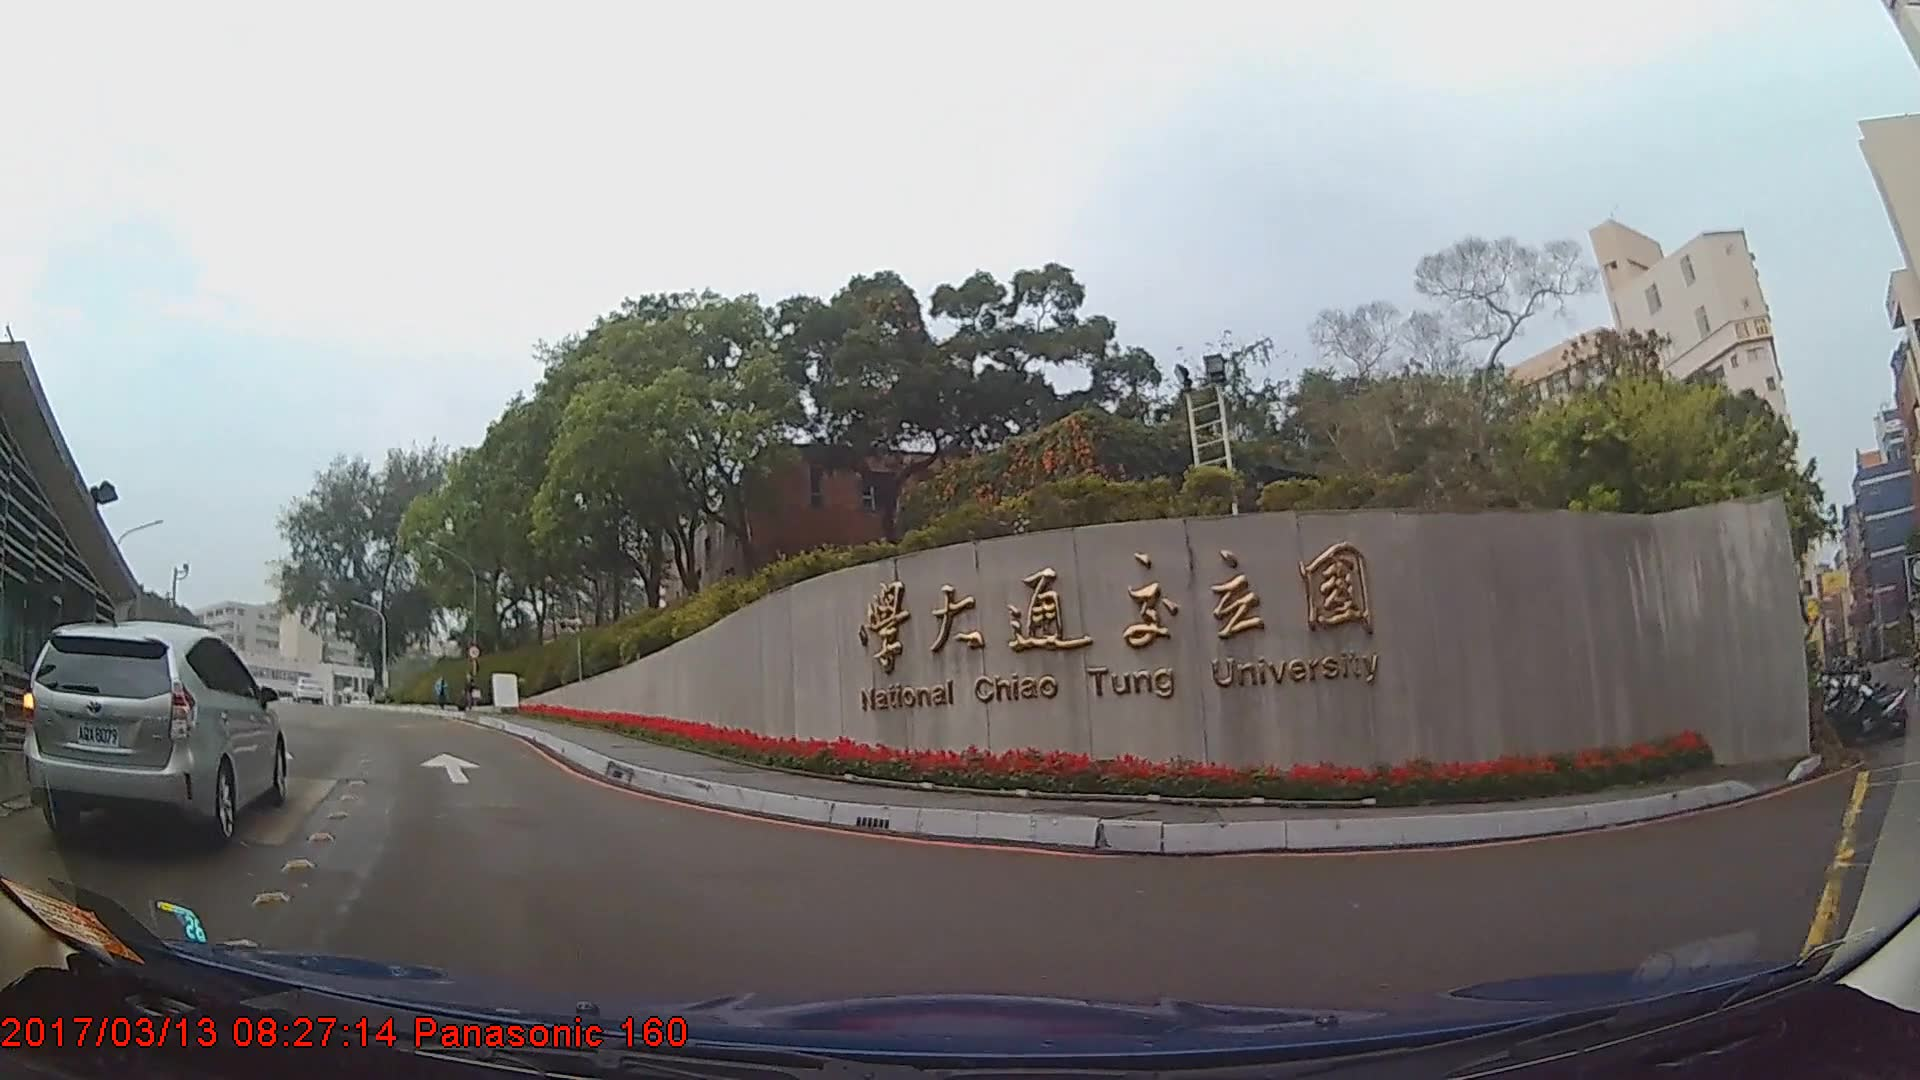vehicle: (24, 616, 287, 851), (291, 676, 324, 705)
